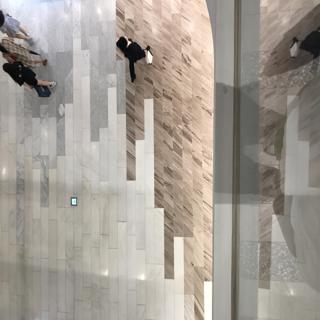person: (114, 29, 160, 87), (2, 59, 54, 99), (1, 14, 49, 46)
